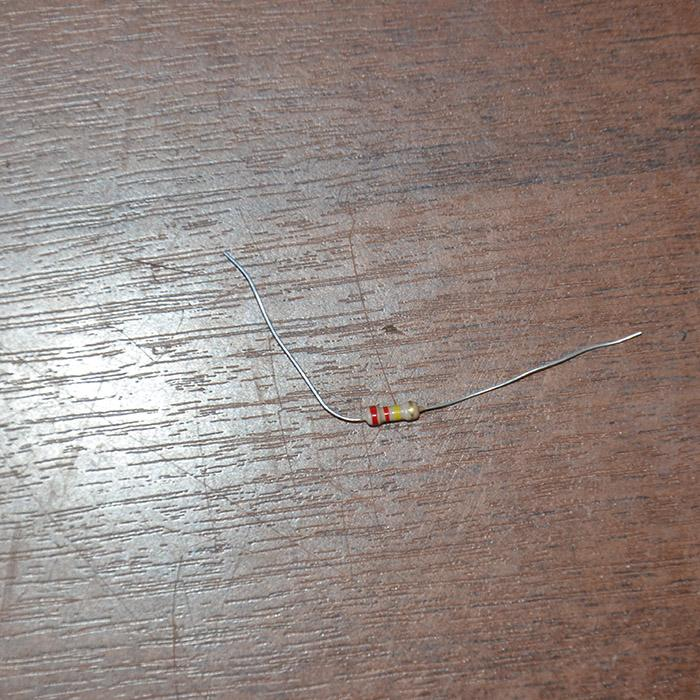resistor: (362, 399, 421, 426)
